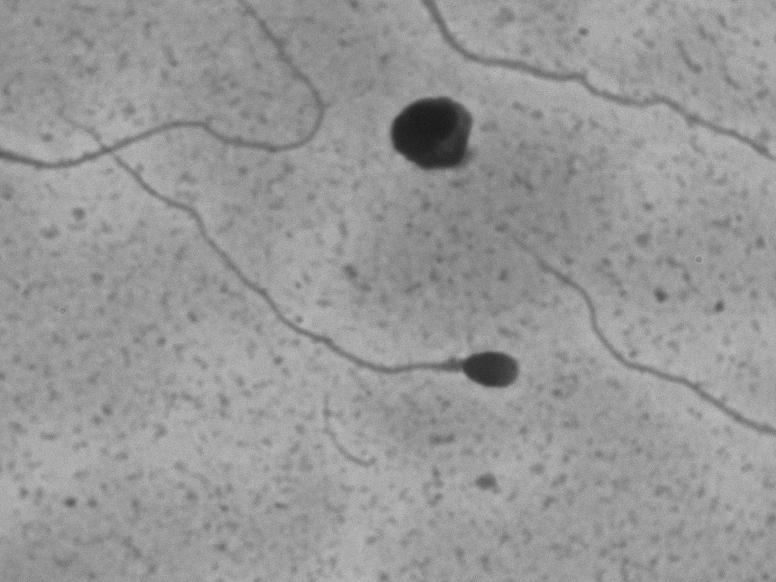Normal: (18, 77, 536, 403)
